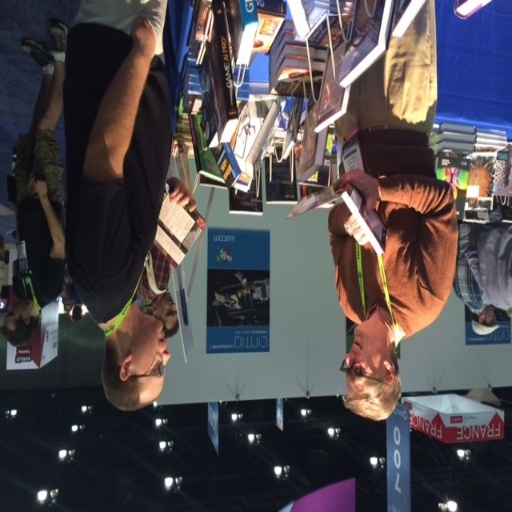hand: (115, 6, 161, 69), (332, 168, 380, 213), (166, 176, 198, 213), (345, 214, 369, 248), (32, 176, 48, 198)
